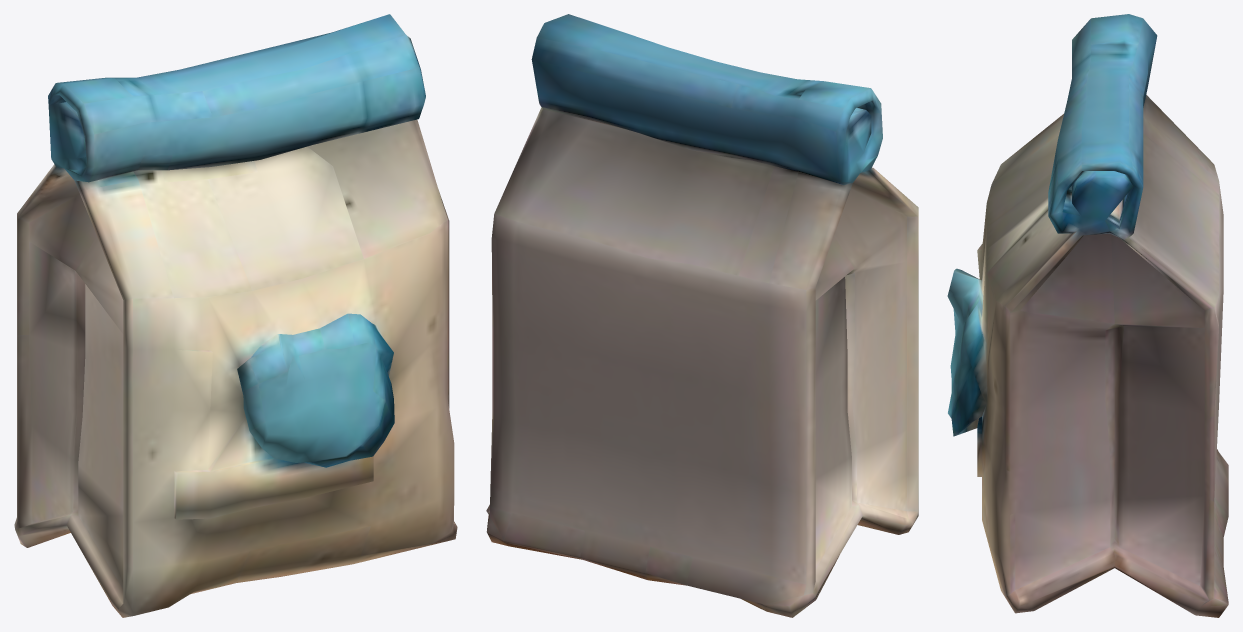
Rendered from sugar.glb.
3 renders of one model, left to right at view 1: azimuth 30°, elevation 25°; view 2: azimuth 150°, elevation 25°; view 3: azimuth 270°, elevation 25°, orthographic. The views are drawn at different scales.
Parts seen in each view (by area): view 1: Sugar; view 2: Sugar; view 3: Sugar.
Part boxes in pixels (x1=…): Sugar: x1=14, y1=14, x2=457, y2=617; Sugar: x1=486, y1=14, x2=918, y2=617; Sugar: x1=947, y1=14, x2=1228, y2=617.
Bounding box in the file's own units: 1.19 × 1.65 × 0.9152.
1 material, 1 textured.
